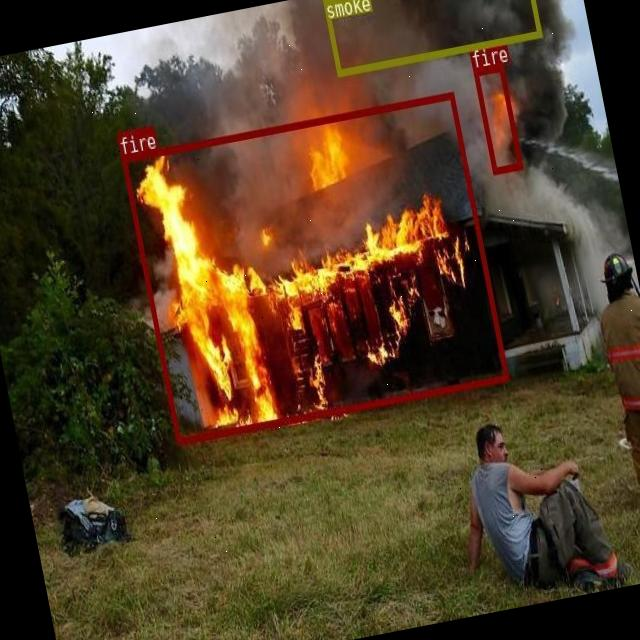fire: (121, 90, 509, 444), (472, 64, 522, 174)
smoke: (322, 0, 541, 75)
